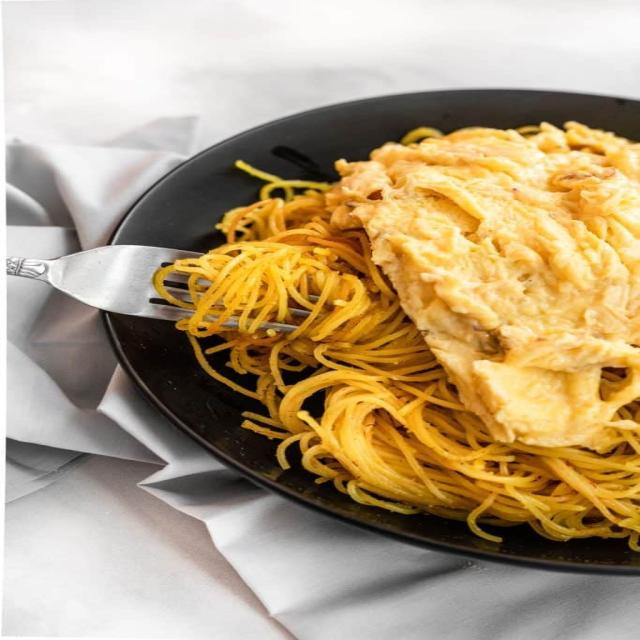Balaleet: (206, 113, 640, 574)
